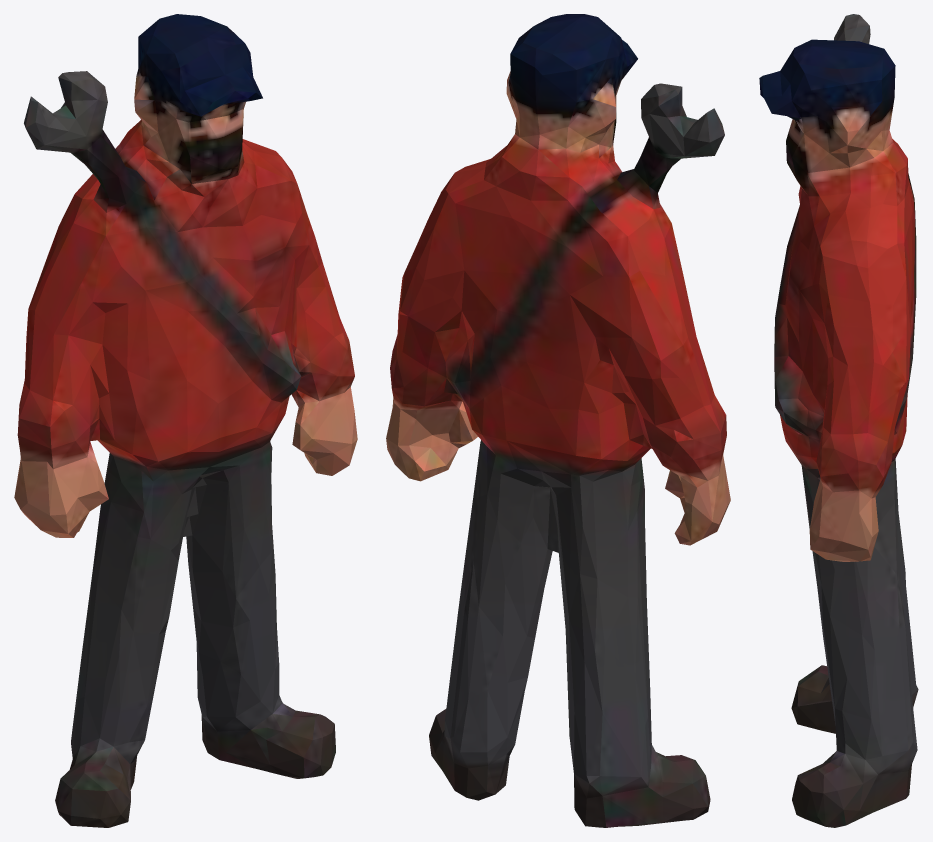
The model's file is habitant-loin.glb.
The picture shows the model from 3 angles, left to right: view 1: azimuth 30°, elevation 25°; view 2: azimuth 150°, elevation 25°; view 3: azimuth 270°, elevation 25°; orthographic projection. The views are drawn at different scales.
Visible parts, largest first — view 1: habitant; view 2: habitant; view 3: habitant.
Part boxes in pixels (x1,y1,x2,y2): habitant: [14, 14, 357, 827]; habitant: [386, 14, 730, 827]; habitant: [759, 14, 918, 827].
Size of the model in its own units: 0.4573 by 1.01 by 0.202.
1 material, 1 textured.
